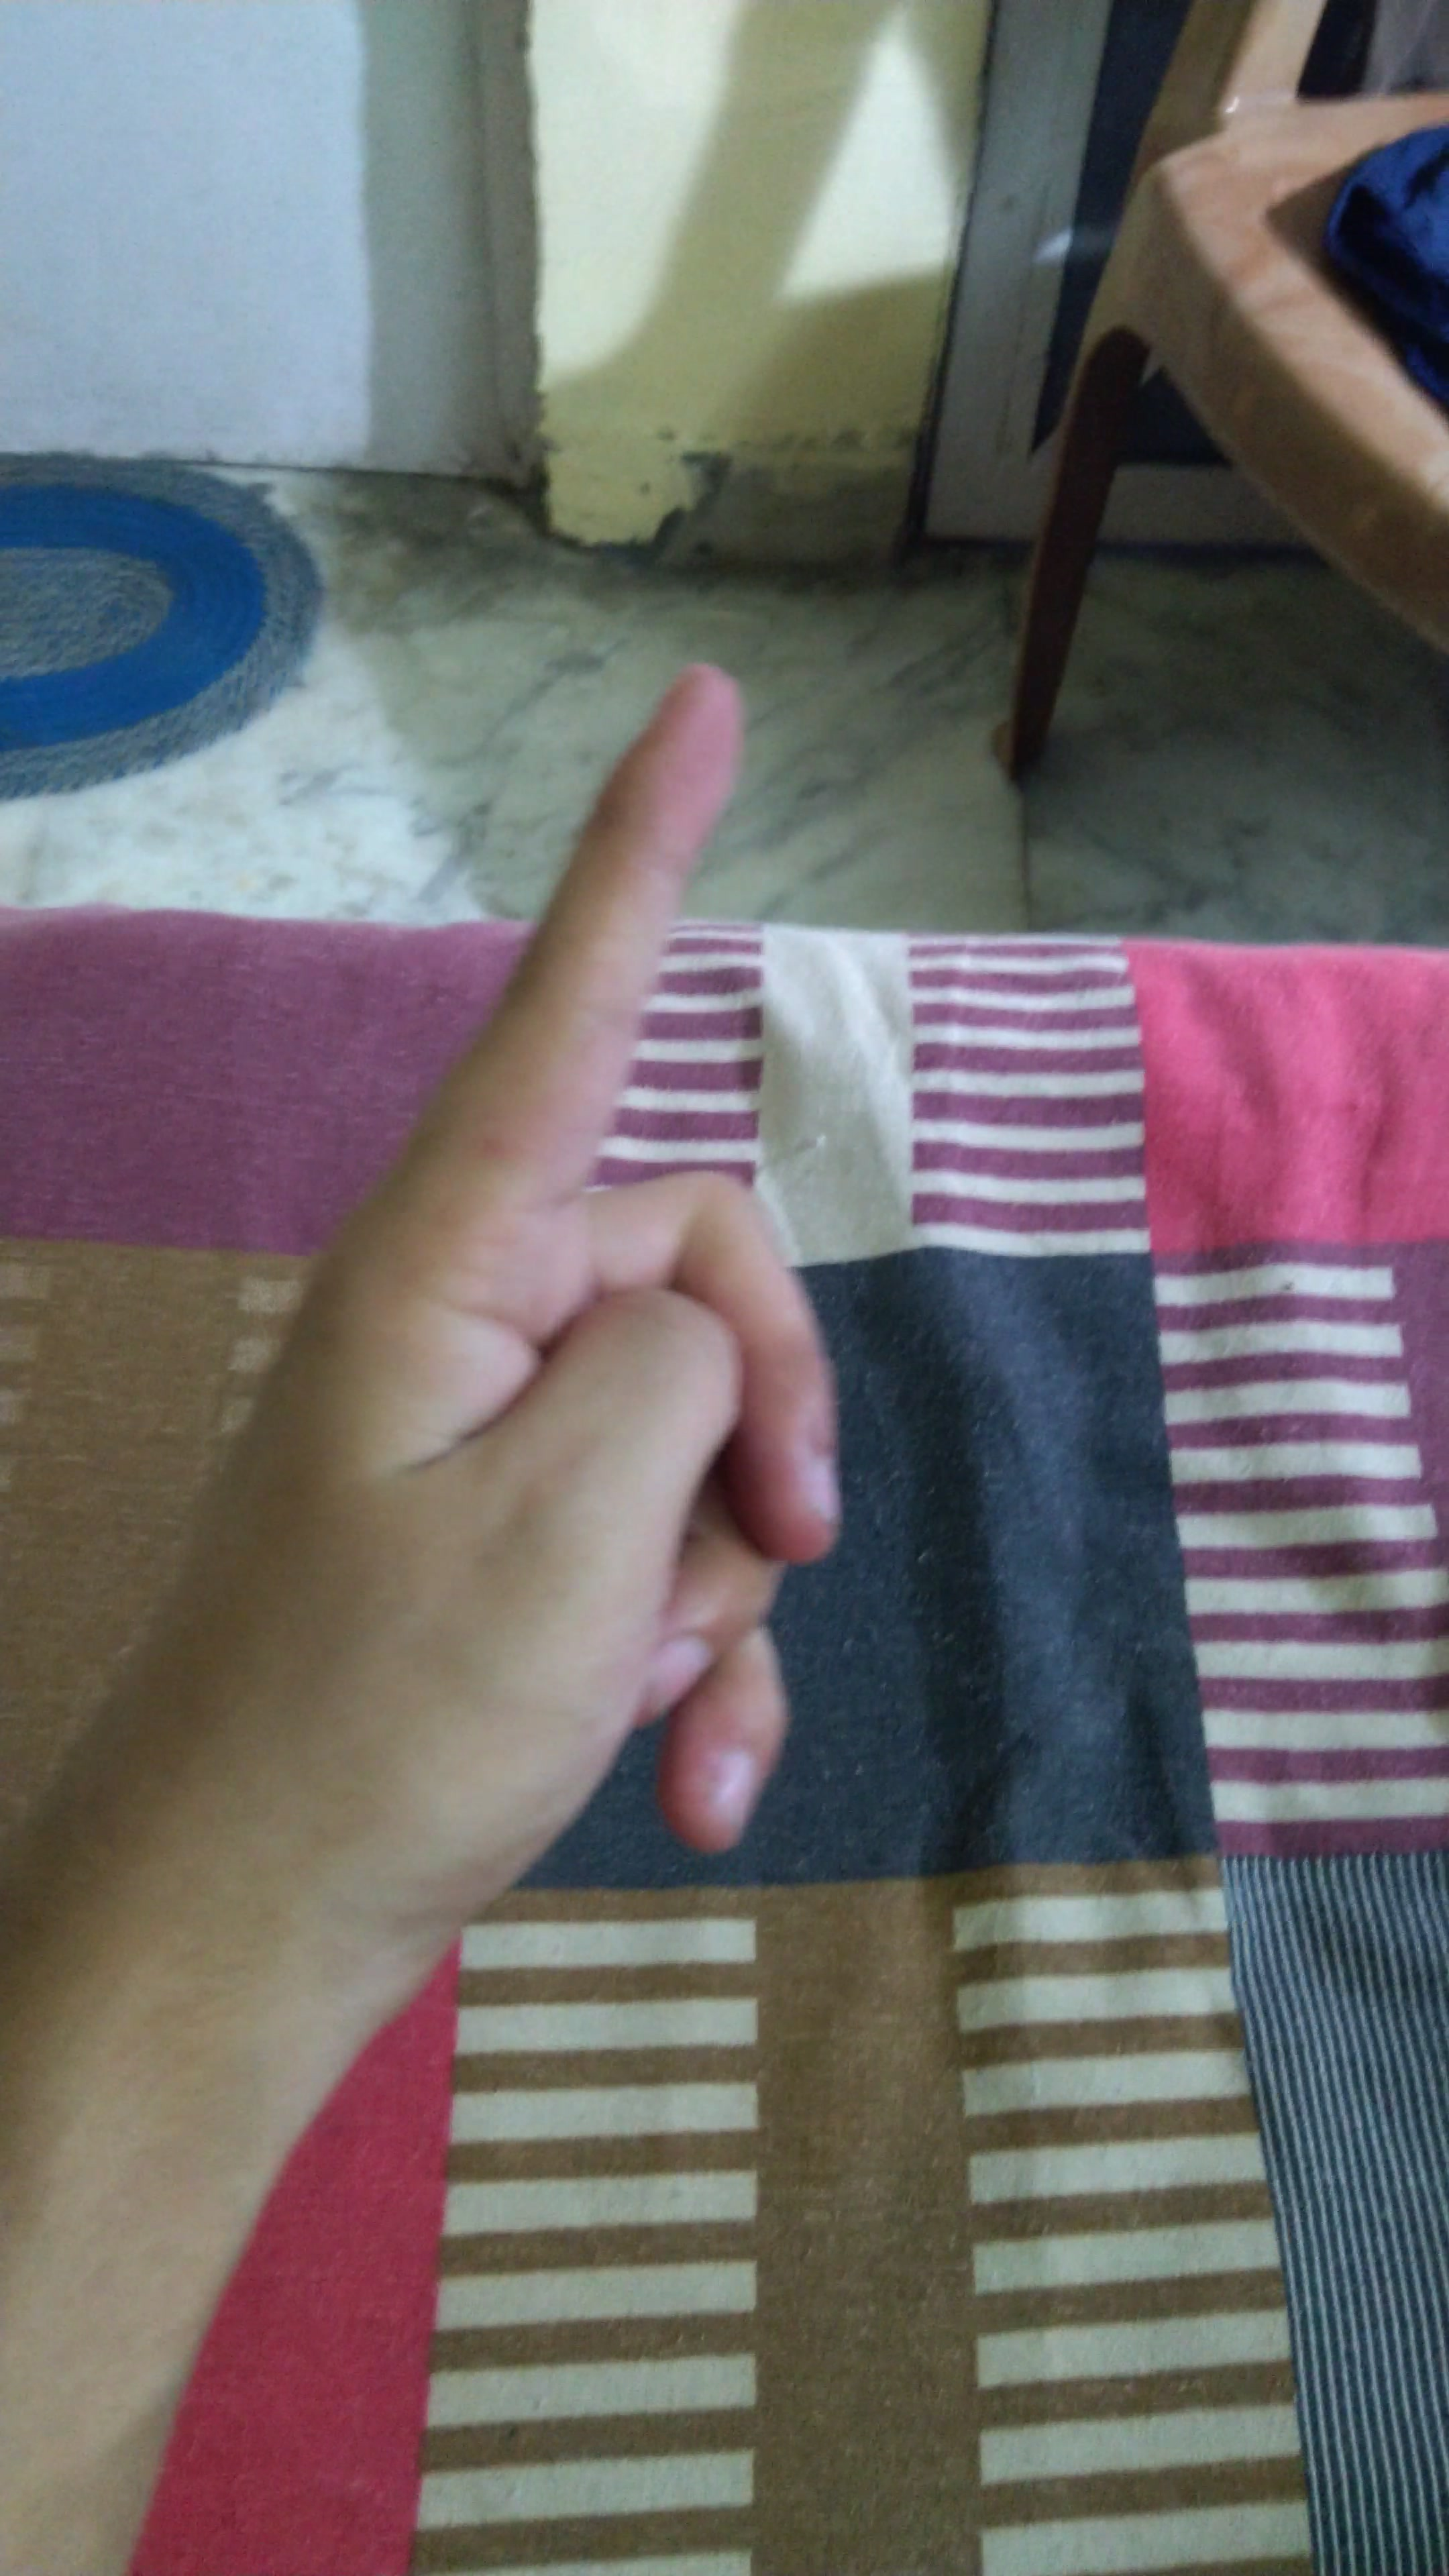hand: (119, 630, 929, 1951)
